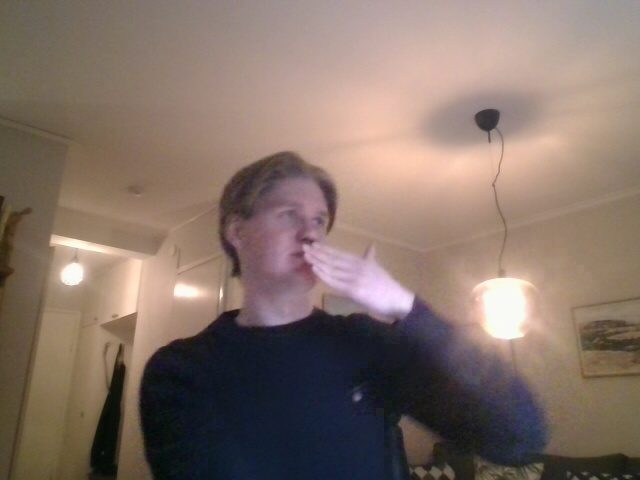ThankYou: (288, 242, 400, 319)
